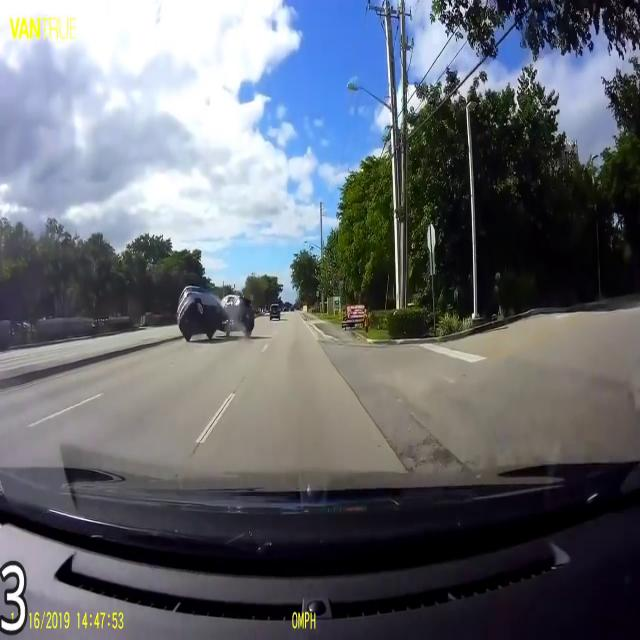accident: (177, 278, 259, 342)
